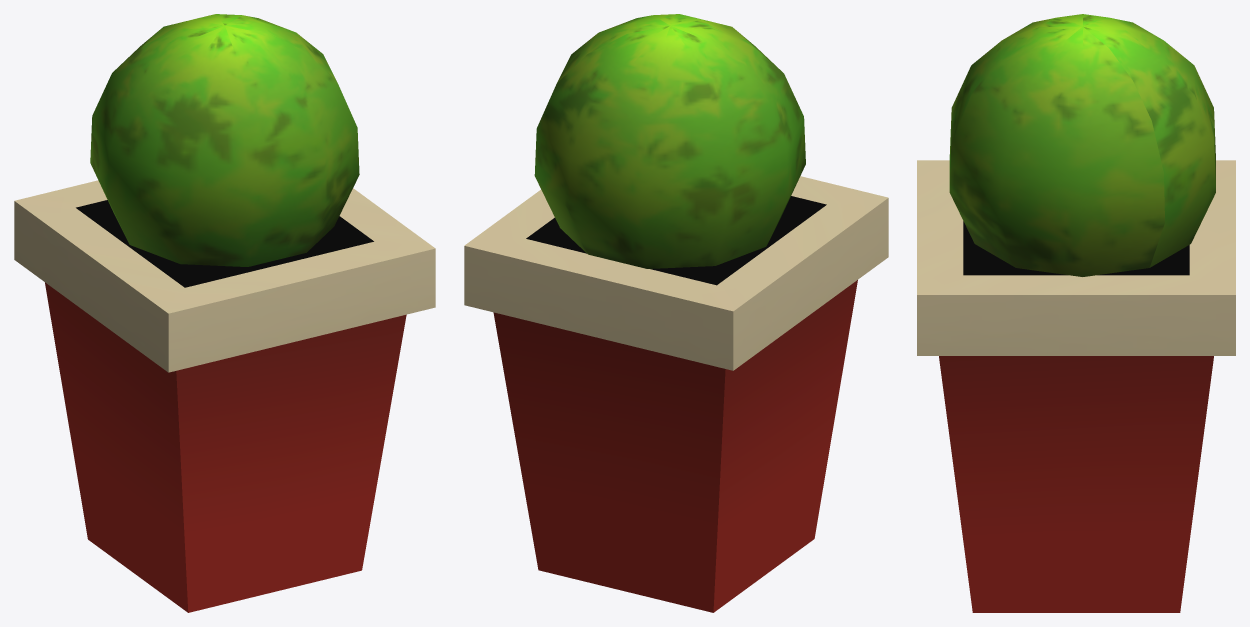
Rendered from donica.fbx.
3 renders of one model, left to right at view 1: azimuth 30°, elevation 25°; view 2: azimuth 150°, elevation 25°; view 3: azimuth 270°, elevation 25°, orthographic. The views are drawn at different scales.
Visible parts, largest first — view 1: donica; view 2: donica; view 3: donica.
Boxes of the visible parts, x1=… form: donica: x1=14, y1=14, x2=435, y2=612; donica: x1=464, y1=14, x2=888, y2=612; donica: x1=917, y1=14, x2=1235, y2=612.
Bounding box in the file's own units: 11.76 × 22.13 × 11.76.
